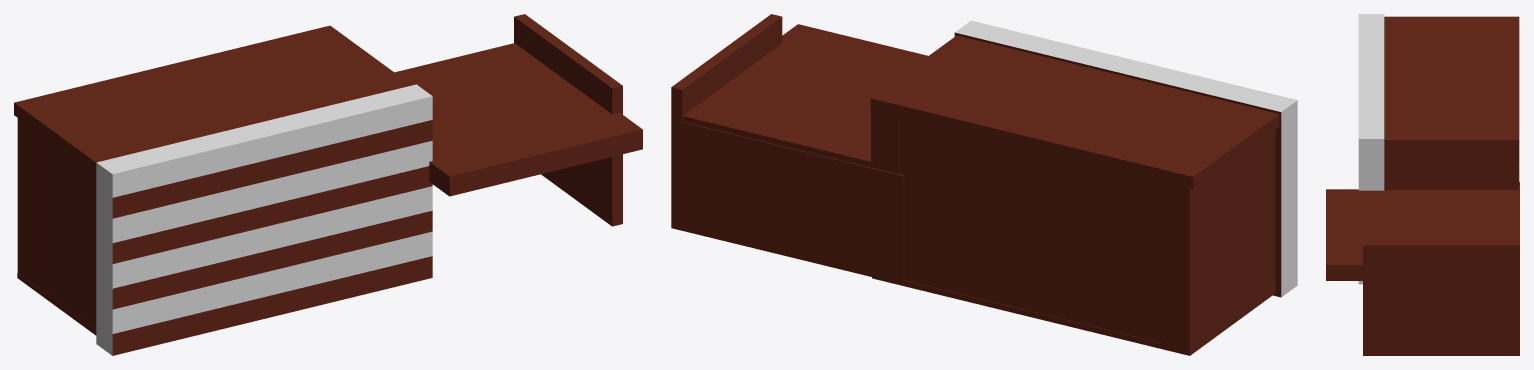
File: rave.fbx
3 renders of one model, left to right at view 1: azimuth 30°, elevation 25°; view 2: azimuth 150°, elevation 25°; view 3: azimuth 270°, elevation 25°, orthographic. The views are drawn at different scales.
Visible parts, largest first — view 1: Teto.002; view 2: Teto.002; view 3: Teto.002.
Boxes of the visible parts, x1=… form: Teto.002: x1=14, y1=14, x2=642, y2=355; Teto.002: x1=671, y1=14, x2=1297, y2=355; Teto.002: x1=1326, y1=14, x2=1519, y2=355.
Bounding box in the file's own units: 3678 × 1244 × 1504.
